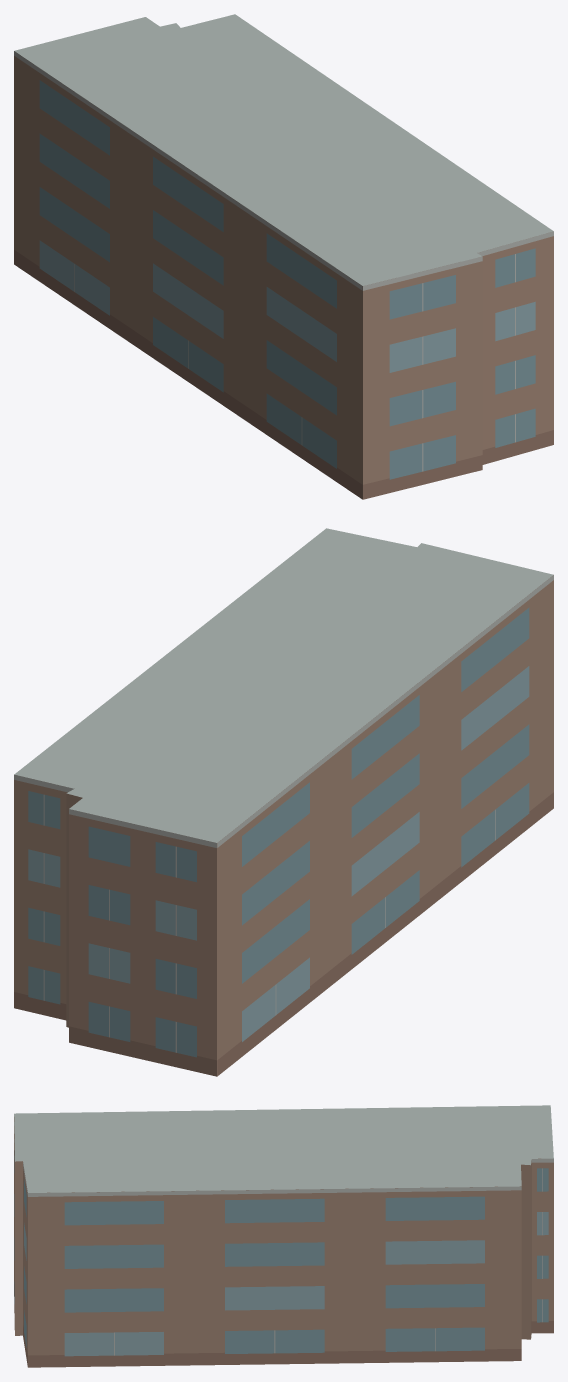
File: survey-upis-32873796.glb
3 renders of one model, top to bottom at view 1: azimuth 30°, elevation 25°; view 2: azimuth 150°, elevation 25°; view 3: azimuth 270°, elevation 25°, orthographic. The views are drawn at different scales.
Visible parts, largest first — view 1: survey-upis-32873796.tmp; view 2: survey-upis-32873796.tmp; view 3: survey-upis-32873796.tmp.
Part boxes in pixels (left/top/right/bottom): survey-upis-32873796.tmp: left=14, top=14, right=553, bottom=499; survey-upis-32873796.tmp: left=14, top=528, right=553, bottom=1076; survey-upis-32873796.tmp: left=14, top=1105, right=553, bottom=1367.
Bounding box in the file's own units: 11.76 × 10.9 × 30.56.
